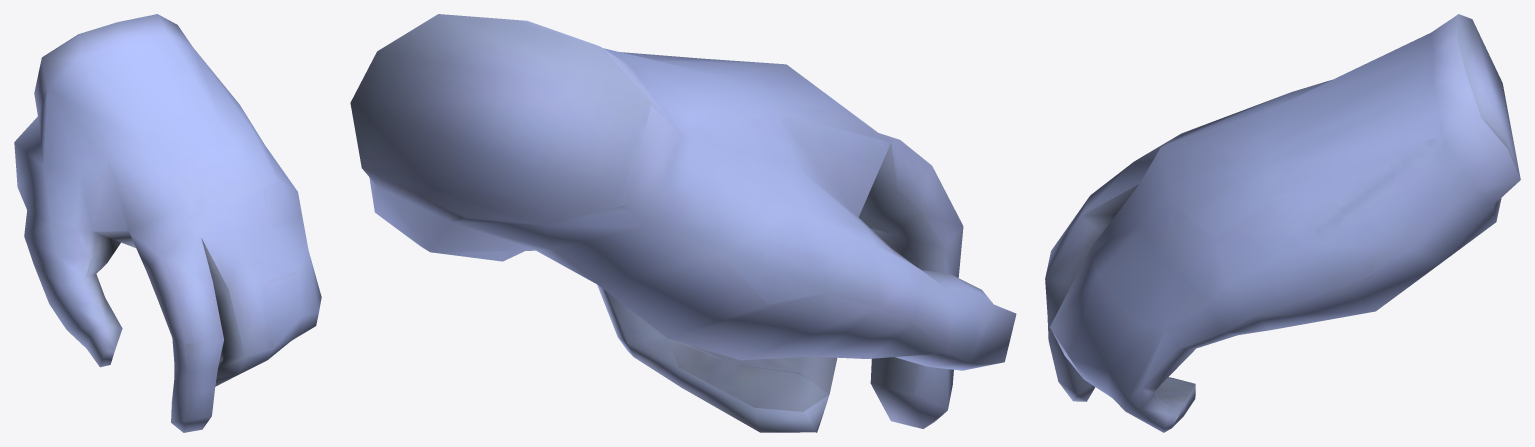
Rendered from hand.glb.
3 renders of one model, left to right at view 1: azimuth 30°, elevation 25°; view 2: azimuth 150°, elevation 25°; view 3: azimuth 270°, elevation 25°, orthographic. The views are drawn at different scales.
Parts seen in each view (by area): view 1: hand; view 2: hand; view 3: hand.
Boxes of the visible parts, x1,y1,x2,y2 form: hand: (14,14,321,432); hand: (350,14,1016,432); hand: (1045,14,1520,432).
Size of the model in its own units: 0.0678 by 0.0763 by 0.0816.
Materials: 1 (1 with a texture image).
